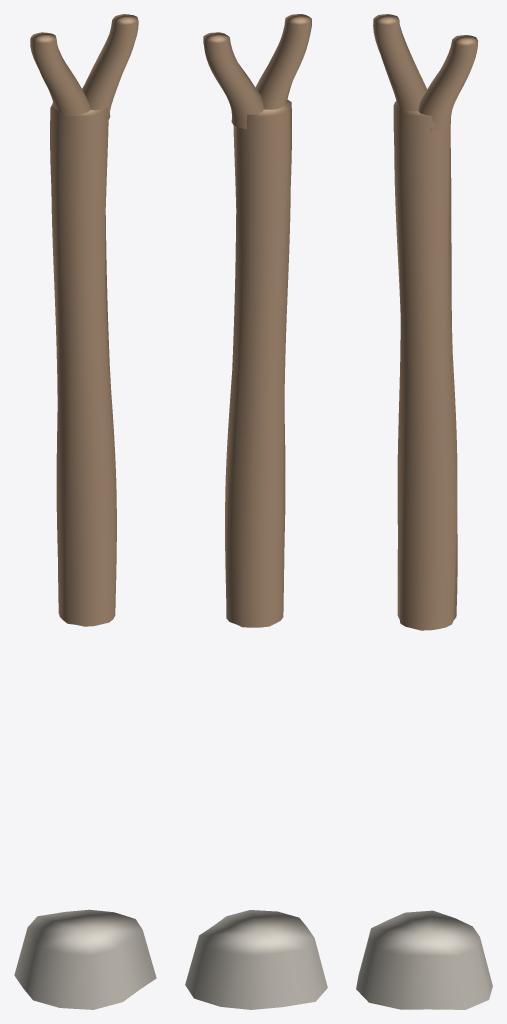
File: bagana-f1-3x13x3-v2.glb
3 renders of one model, left to right at view 1: azimuth 30°, elevation 25°; view 2: azimuth 210°, elevation 25°; view 3: azimuth 330°, elevation 25°, orthographic.
Visible parts, largest first — view 1: bagana_wood, bagana_stone; view 2: bagana_wood, bagana_stone; view 3: bagana_wood, bagana_stone.
Boxes of the visible parts, x1,y1,x2,y2 form: bagana_wood: [30, 14, 138, 626]; bagana_stone: [14, 909, 156, 1009]; bagana_wood: [203, 14, 311, 627]; bagana_stone: [185, 910, 327, 1009]; bagana_wood: [373, 14, 478, 630]; bagana_stone: [356, 910, 492, 1009].
Bounding box in the file's own units: 0.657 × 4.88 × 0.6169.
